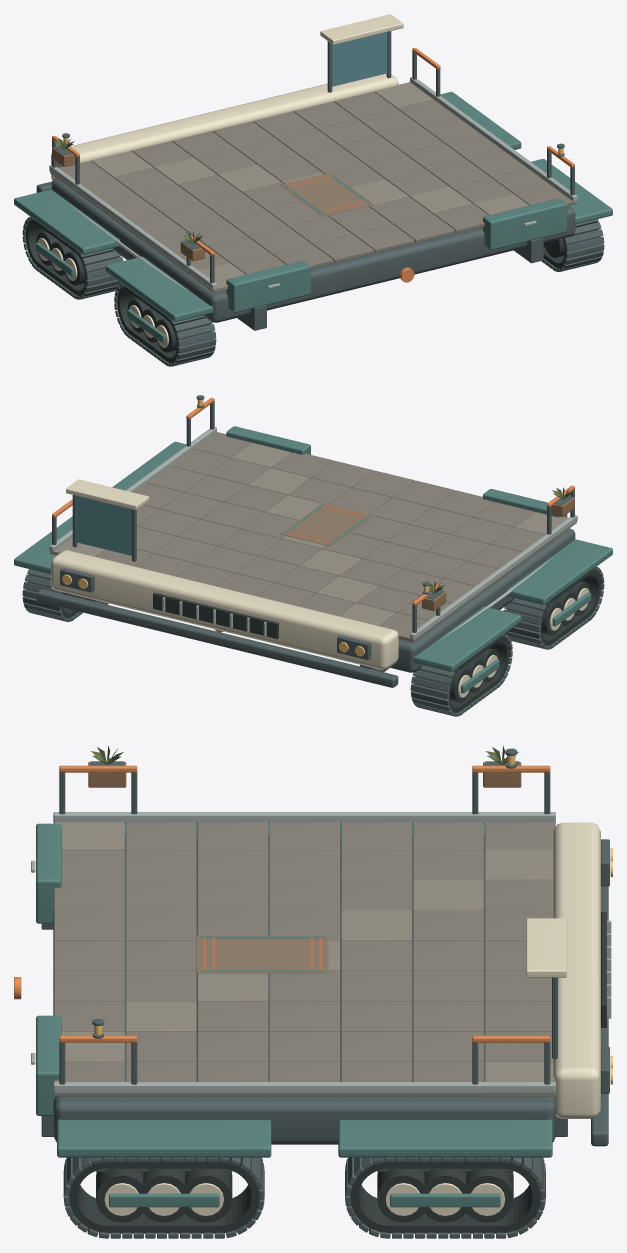
Rendered from NW1_Vehicle.fbx.
3 views of the same model, one above another, from view 1: azimuth 30°, elevation 25°; view 2: azimuth 150°, elevation 25°; view 3: azimuth 270°, elevation 25° (orthographic). The views are drawn at different scales.
Parts seen in each view (by area): view 1: NW1_Vehicle_NW1_Deck, NW1_Vehicle_NW1_Teal, NW1_Vehicle_NW1_Frame, NW1_Vehicle_NW1_Ivory, NW1_Vehicle_NW1_DeckPatch, NW1_Vehicle_NW1_Steel, NW1_Vehicle_NW1_Glass, NW1_Vehicle_NW1_RugCanvas, TrackPod_-1_0_NW1_Rubber, TrackPod_-1_1_NW1_Rubber, NW1_Vehicle_NW1_Orange, NW1_Vehicle_NW1_Wood; view 2: NW1_Vehicle_NW1_Deck, NW1_Vehicle_NW1_Ivory, NW1_Vehicle_NW1_Frame, NW1_Vehicle_NW1_Teal, NW1_Vehicle_NW1_DeckPatch, NW1_Vehicle_NW1_Steel, NW1_Vehicle_NW1_Glass, NW1_Vehicle_NW1_RugCanvas, NW1_Vehicle_NW1_Rubber, TrackPod_-1_1_NW1_Rubber, TrackPod_-1_0_NW1_Rubber, NW1_Vehicle_NW1_Wood (+1 smaller); view 3: NW1_Vehicle_NW1_Deck, NW1_Vehicle_NW1_Frame, NW1_Vehicle_NW1_Teal, NW1_Vehicle_NW1_DeckPatch, NW1_Vehicle_NW1_Ivory, NW1_Vehicle_NW1_Steel, TrackPod_1_1_NW1_Rubber, TrackPod_1_0_NW1_Rubber, NW1_Vehicle_NW1_RugCanvas, NW1_Vehicle_NW1_Orange, TrackPod_1_1_NW1_Teal, TrackPod_1_0_NW1_Teal (+8 smaller).
Boxes of the visible parts, box(x1,y1,x2,y2) form: NW1_Vehicle_NW1_Deck: box(50, 91, 576, 274); NW1_Vehicle_NW1_Teal: box(14, 91, 612, 321); NW1_Vehicle_NW1_Frame: box(36, 31, 575, 330); NW1_Vehicle_NW1_Ivory: box(51, 14, 403, 180); NW1_Vehicle_NW1_DeckPatch: box(91, 82, 529, 292); NW1_Vehicle_NW1_Steel: box(49, 77, 577, 290); NW1_Vehicle_NW1_Glass: box(332, 32, 387, 86); NW1_Vehicle_NW1_RugCanvas: box(280, 172, 373, 216); TrackPod_-1_0_NW1_Rubber: box(117, 287, 212, 362); TrackPod_-1_1_NW1_Rubber: box(25, 220, 119, 295); NW1_Vehicle_NW1_Orange: box(52, 47, 574, 282); NW1_Vehicle_NW1_Wood: box(52, 147, 204, 261); NW1_Vehicle_NW1_Deck: box(95, 432, 553, 642); NW1_Vehicle_NW1_Ivory: box(51, 479, 398, 669); NW1_Vehicle_NW1_Frame: box(36, 401, 575, 687); NW1_Vehicle_NW1_Teal: box(14, 426, 612, 671); NW1_Vehicle_NW1_DeckPatch: box(50, 442, 576, 625); NW1_Vehicle_NW1_Steel: box(49, 427, 577, 640); NW1_Vehicle_NW1_Glass: box(76, 496, 131, 555); NW1_Vehicle_NW1_RugCanvas: box(280, 502, 373, 546); NW1_Vehicle_NW1_Rubber: box(153, 592, 278, 638); TrackPod_-1_1_NW1_Rubber: box(414, 636, 509, 712); TrackPod_-1_0_NW1_Rubber: box(507, 569, 601, 645); NW1_Vehicle_NW1_Wood: box(422, 497, 574, 611); NW1_Vehicle_NW1_Deck: box(54, 822, 555, 1096); NW1_Vehicle_NW1_Frame: box(41, 761, 609, 1171); NW1_Vehicle_NW1_Teal: box(36, 823, 552, 1157); NW1_Vehicle_NW1_DeckPatch: box(54, 822, 555, 1096); NW1_Vehicle_NW1_Ivory: box(526, 822, 600, 1118); NW1_Vehicle_NW1_Steel: box(31, 812, 611, 1093); TrackPod_1_1_NW1_Rubber: box(350, 1157, 540, 1233); TrackPod_1_0_NW1_Rubber: box(69, 1157, 259, 1233); NW1_Vehicle_NW1_RugCanvas: box(197, 935, 328, 973); NW1_Vehicle_NW1_Orange: box(14, 765, 550, 1042); TrackPod_1_1_NW1_Teal: box(390, 1193, 500, 1207); TrackPod_1_0_NW1_Teal: box(109, 1193, 219, 1207).
Bounding box in the file's own units: 13.01 × 4.26 × 10.01.
